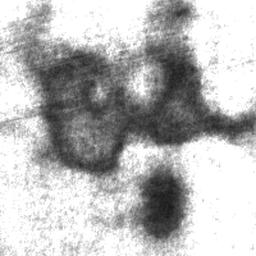Patches: (40, 36, 256, 172), (140, 168, 184, 242)
